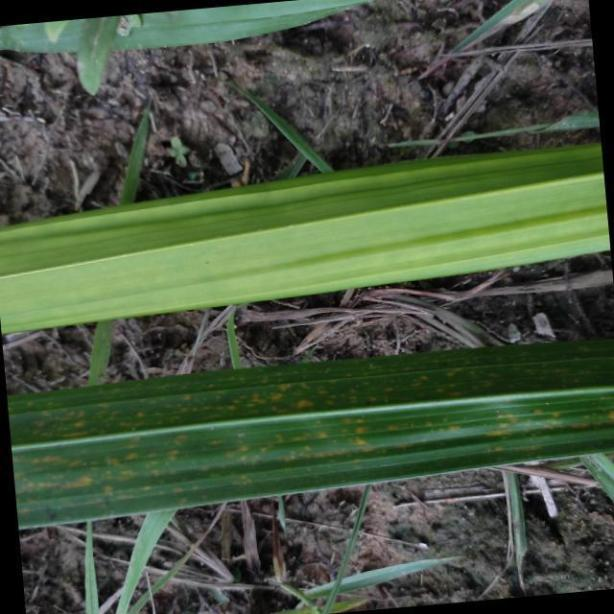nitrogen: (0, 141, 614, 334), (0, 336, 614, 526)
